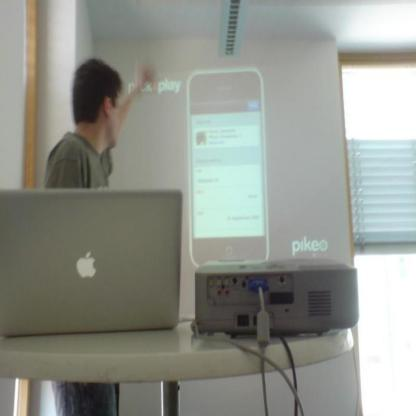board: (0, 188, 183, 339)
